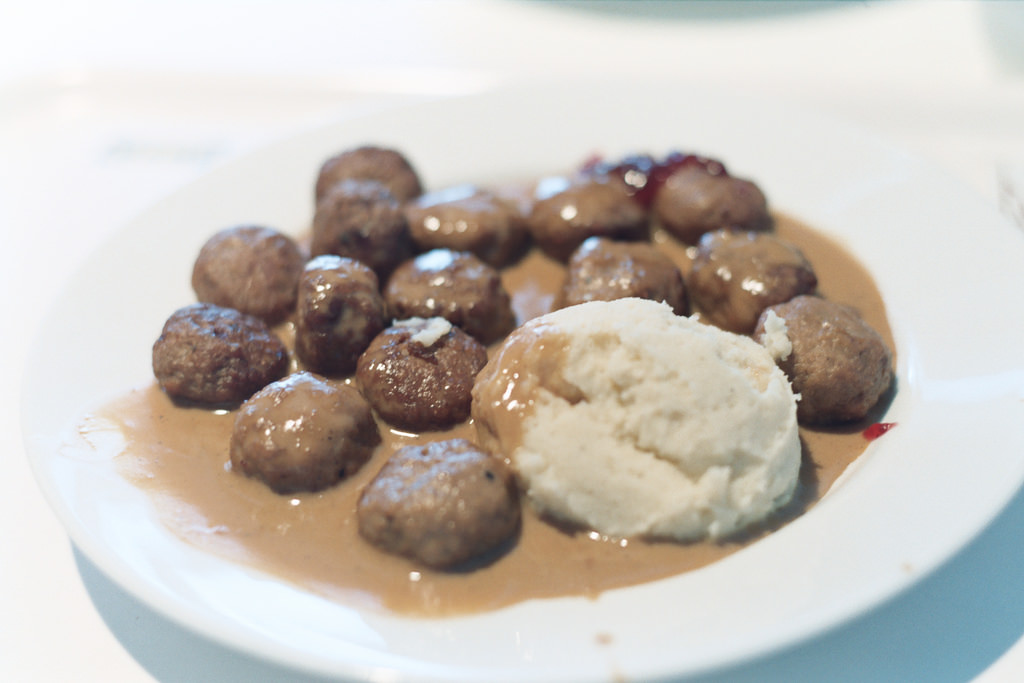meatballs: (319, 184, 491, 336), (360, 428, 506, 561), (675, 218, 840, 330), (163, 307, 293, 420)
